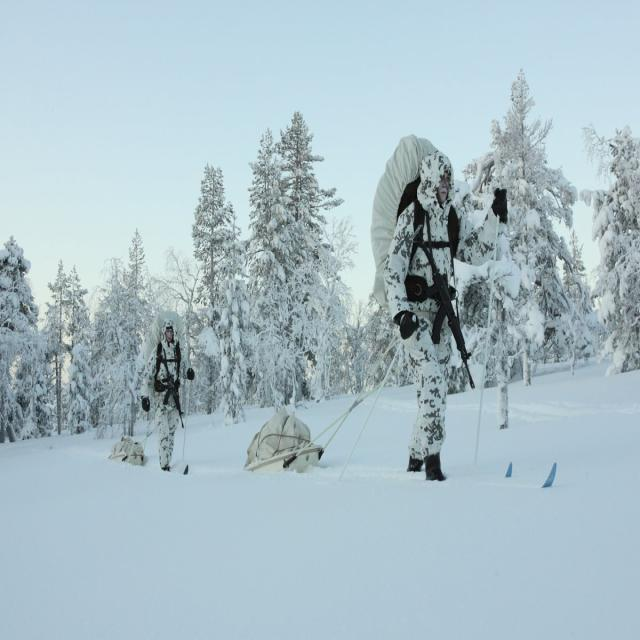Human: (370, 135, 507, 484), (139, 318, 193, 473)
